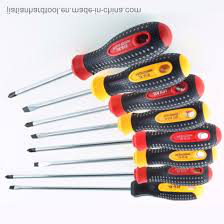Screwdriver: (6, 23, 224, 209)
